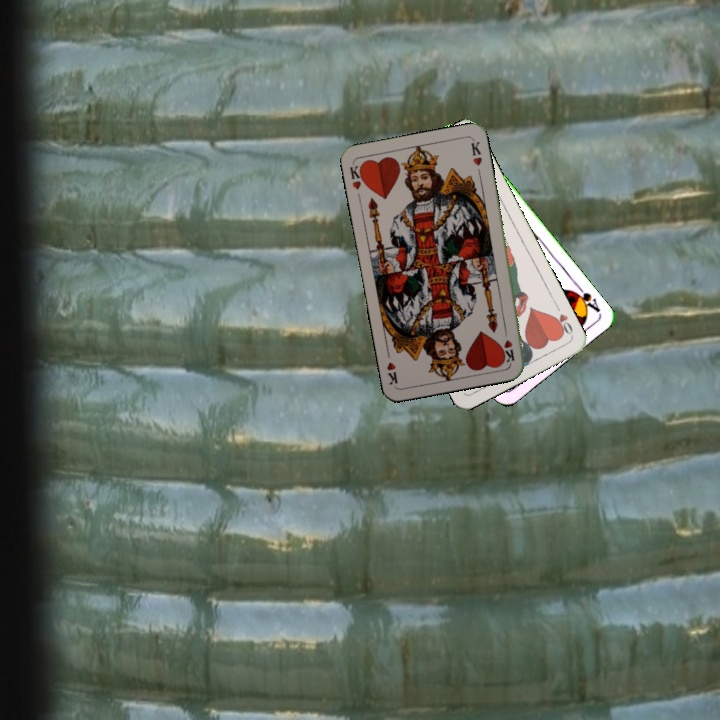HK: (346, 160, 368, 192), (500, 324, 517, 364)
HO: (549, 300, 575, 338)
SA: (567, 280, 603, 315)
